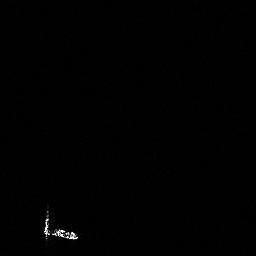ship: (42, 206, 80, 244)
